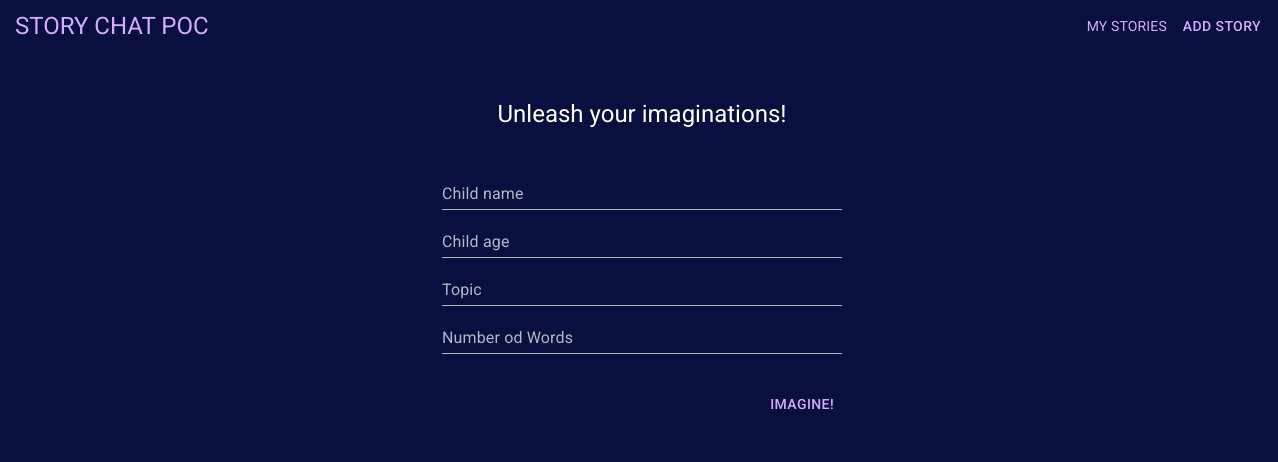
Test case: AddStory › Should show error, when a "Number of words" field is not a number
Step 1. Type "Namo Mandos" into the field labelled "Child name" → (642, 194), box x1=442 y1=178 x2=842 y2=210
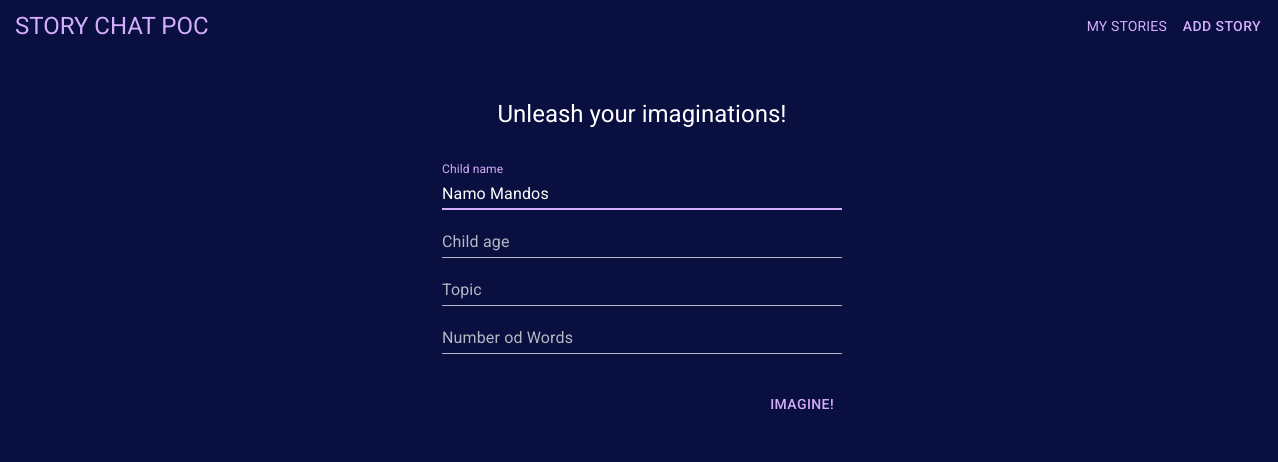
Step 2. Type "6" into the field labelled "Child age" → (642, 242), box x1=442 y1=226 x2=842 y2=258
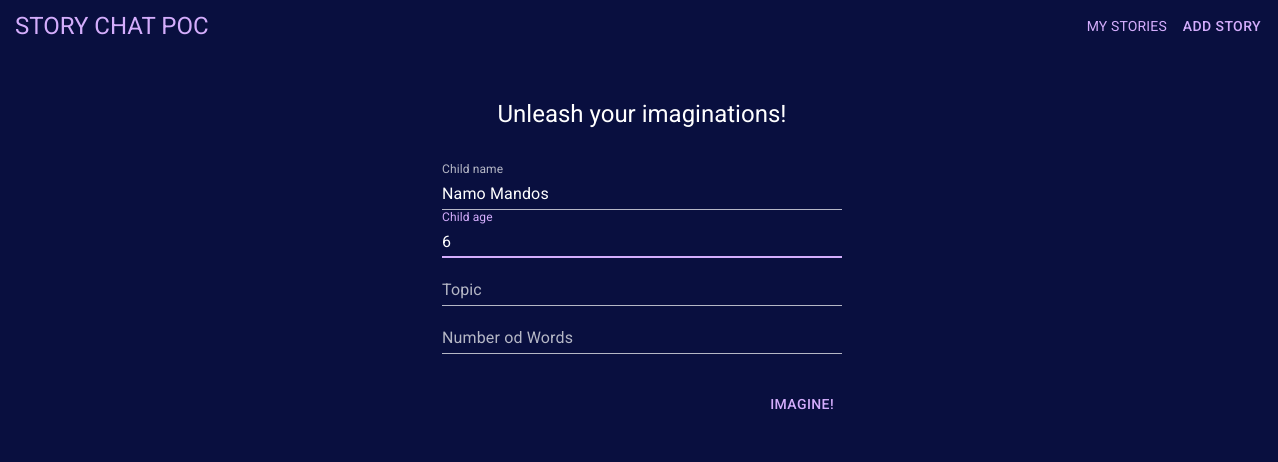
Step 3. Type "Halls of Mandos, doom, Noldors" into the field labelled "Topic" → (642, 290), box x1=442 y1=274 x2=842 y2=306
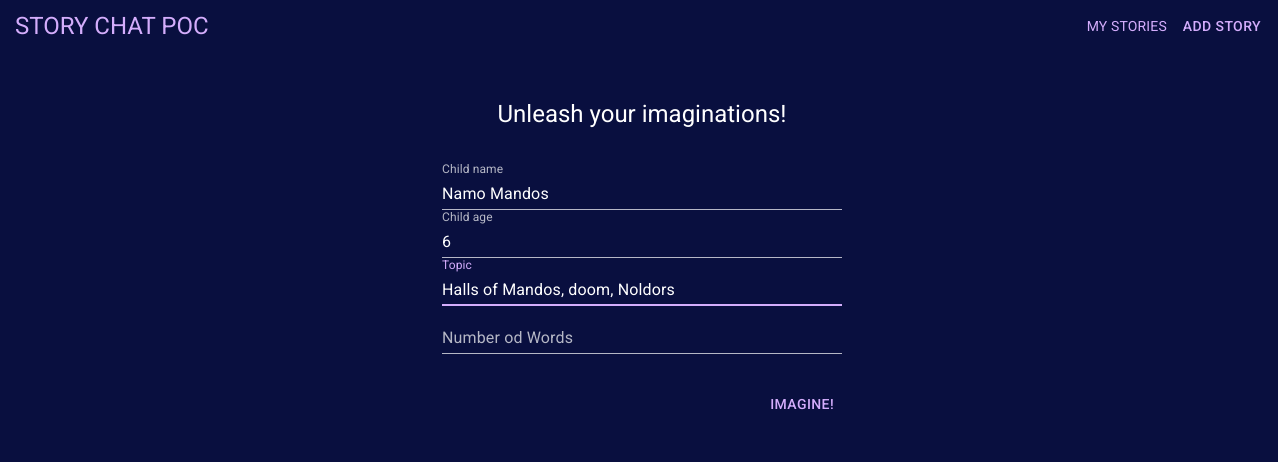
Step 4. Type "sixty eight" into the field labelled "Number od Words" → (642, 338), box x1=442 y1=322 x2=842 y2=354
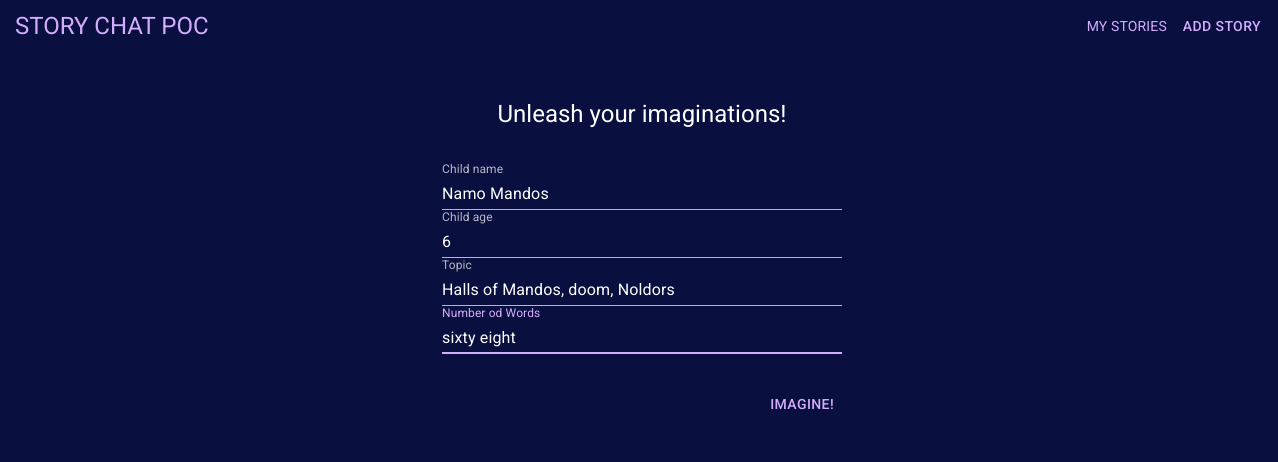
Step 5. Click the button "Imagine!" → click(802, 405), box x1=762 y1=386 x2=842 y2=423
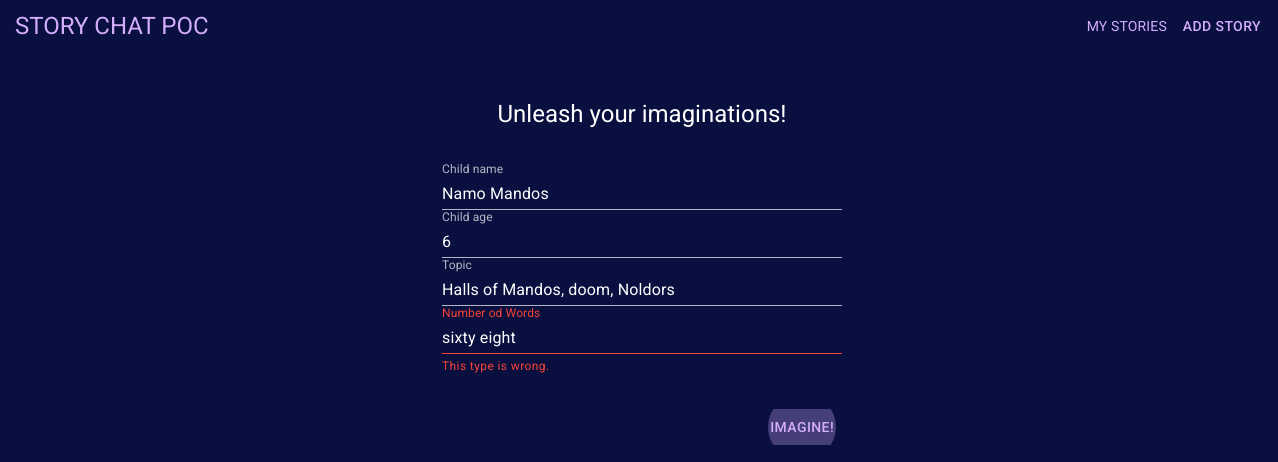
Expected: the text "This type is wrong" is shown, x1=442 y1=359 x2=550 y2=373
